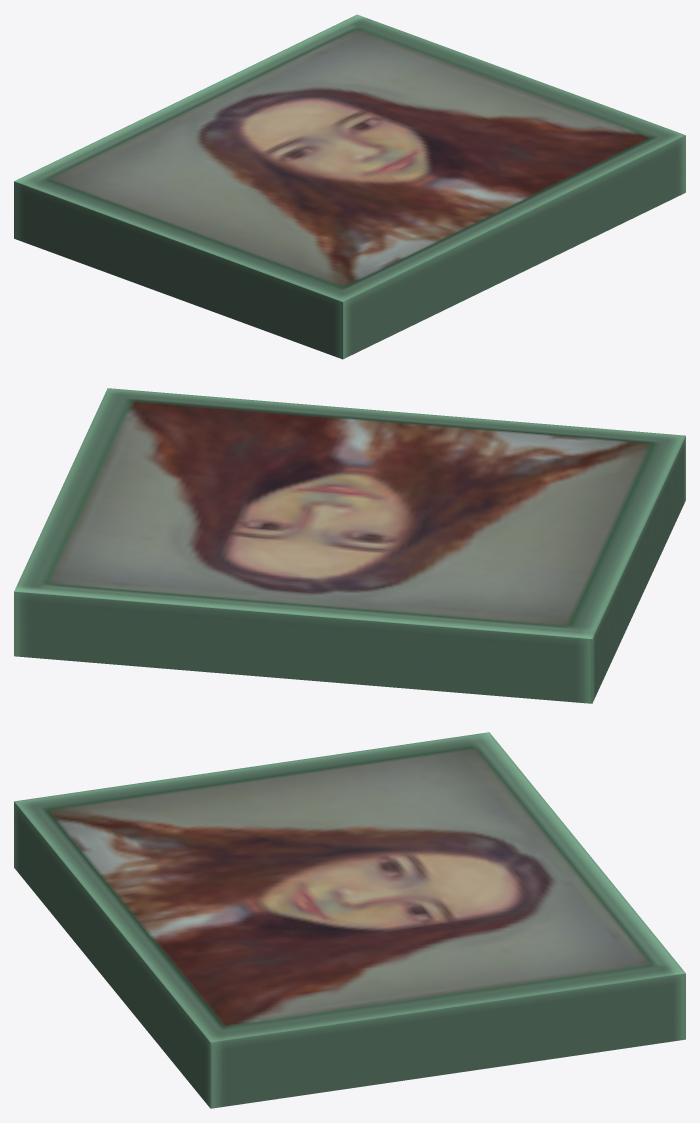
File: SiWangPenQuan_01_xiangpian_01.FBX
3 views of the same model, one above another, from view 1: azimuth 30°, elevation 25°; view 2: azimuth 150°, elevation 25°; view 3: azimuth 270°, elevation 25° (orthographic). The views are drawn at different scales.
Parts seen in each view (by area): view 1: SiWangPenQuan_01_xiangpian_01; view 2: SiWangPenQuan_01_xiangpian_01; view 3: SiWangPenQuan_01_xiangpian_01.
Part boxes in pixels (box(x1,y1,x2,y2)): SiWangPenQuan_01_xiangpian_01: box(14, 14, 685, 359); SiWangPenQuan_01_xiangpian_01: box(14, 388, 685, 703); SiWangPenQuan_01_xiangpian_01: box(14, 732, 685, 1108).
Bounding box in the file's own units: 227 × 22.6 × 208.
